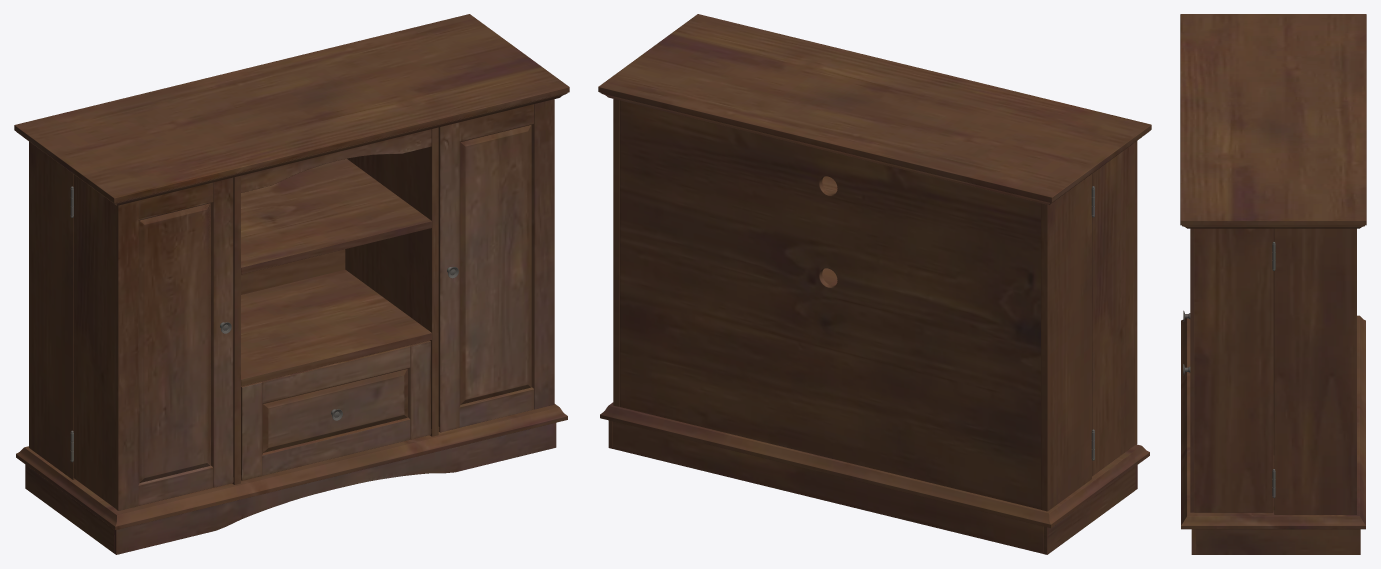
File: abo-B07DYV7WNN.glb
3 views of the same model, side by side, from view 1: azimuth 30°, elevation 25°; view 2: azimuth 150°, elevation 25°; view 3: azimuth 270°, elevation 25° (orthographic). The views are drawn at different scales.
Size of the model in its own units: 1.07 by 0.813 by 0.406.
1 material, 1 textured.
